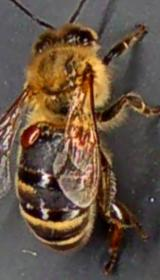varroa_mite: (14, 119, 48, 150)
